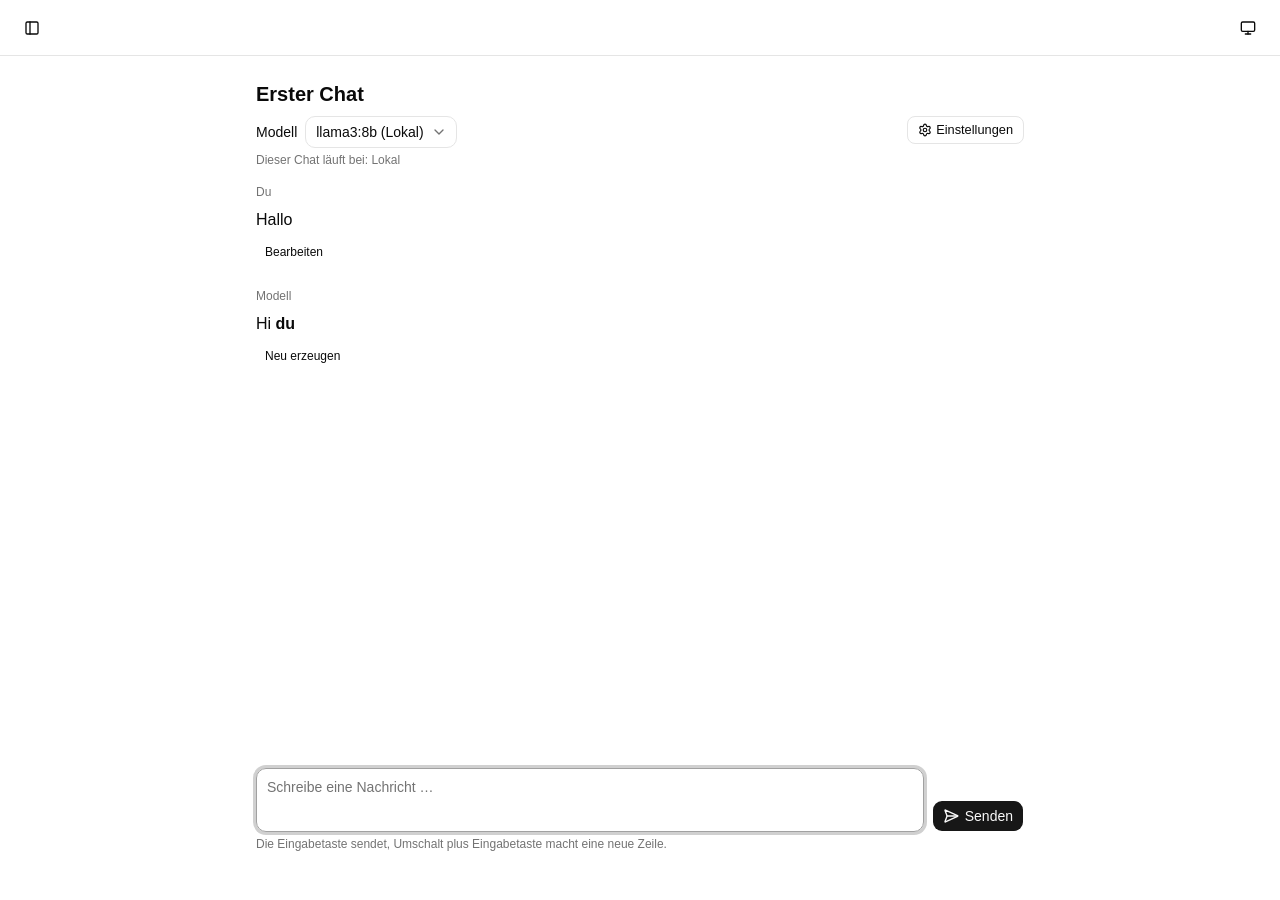
Test: ChatPage: sending › gives the text back when the network fails before the server answered
expect the heading "Erster Chat" is shown: met, box x1=256 y1=83 x2=364 y2=105
In the text box labelled "Nachricht": (590, 800) x1=256 y1=768 x2=924 y2=832, type "Neue Frage"
Then press Enter
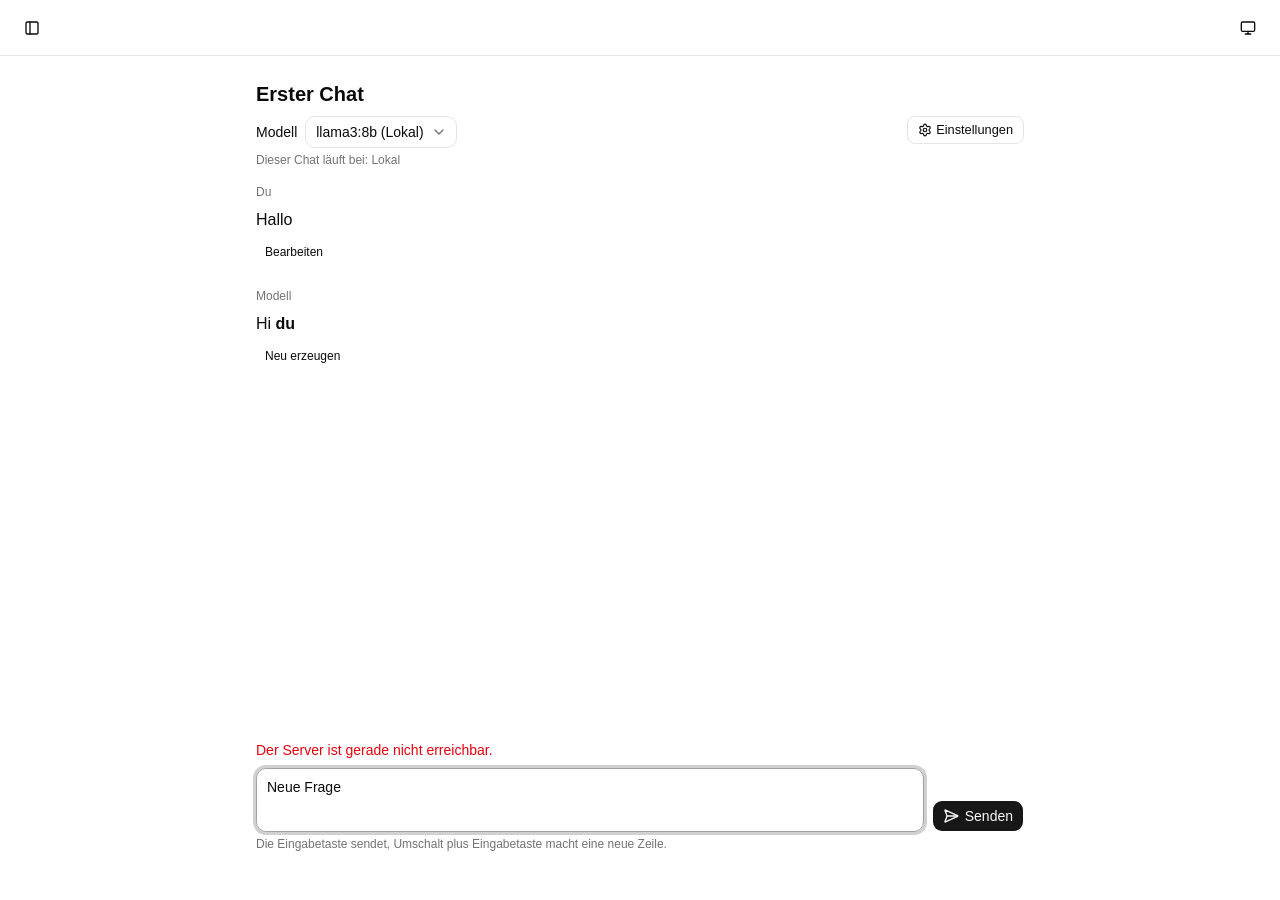
expect the text box named "Nachricht" holds "Neue Frage": met, box x1=256 y1=768 x2=924 y2=832
expect the message "Der Server ist gerade nicht erreichbar." is shown: met, box x1=256 y1=742 x2=493 y2=758
